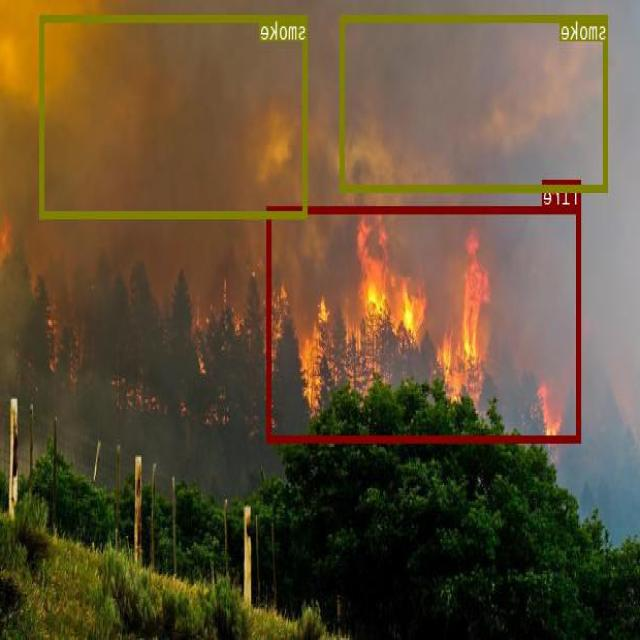fire: (268, 205, 581, 442)
smoke: (41, 14, 308, 217), (342, 15, 608, 190)
